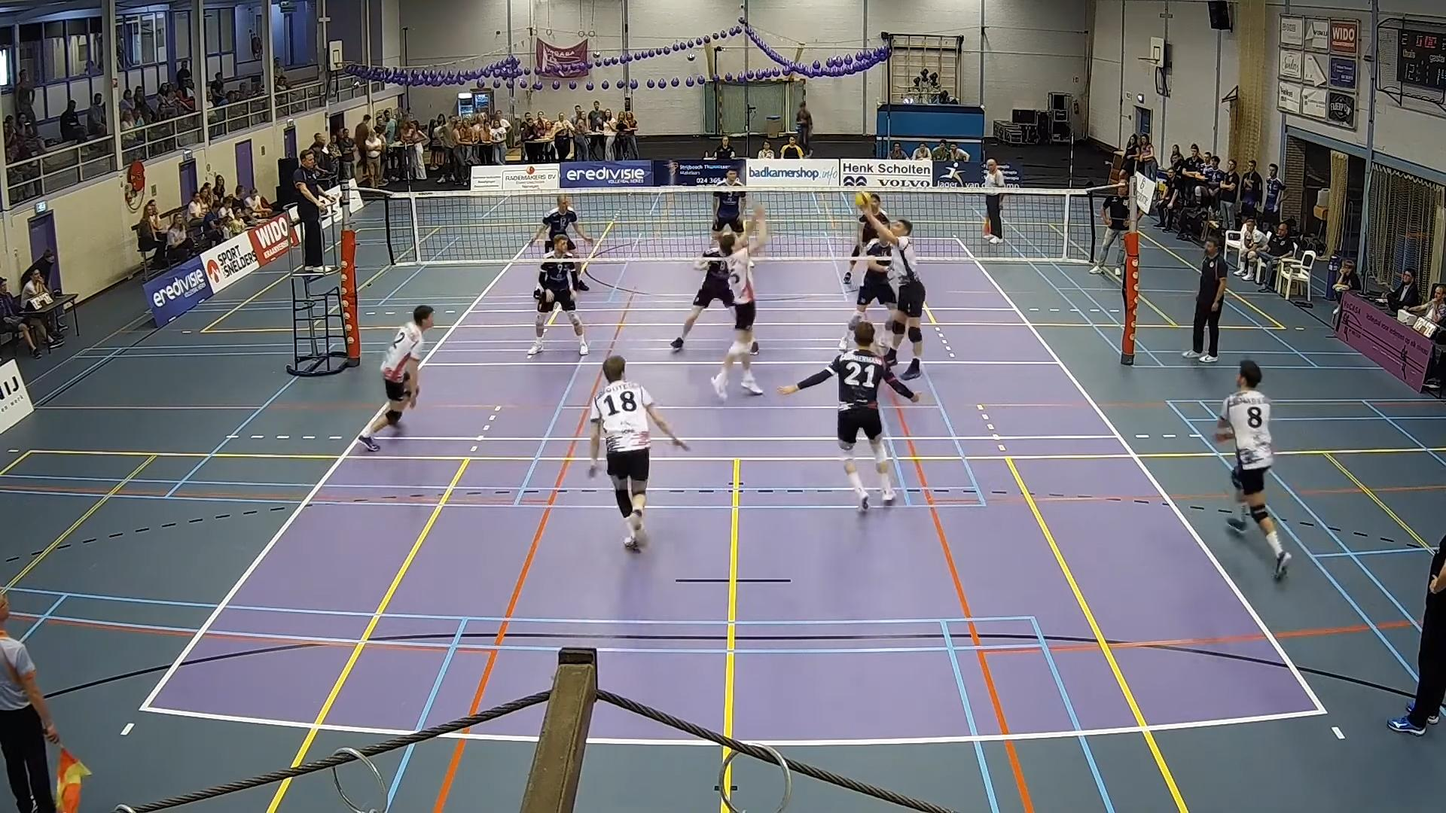Player: (779, 321, 919, 510), (588, 356, 688, 550), (1216, 360, 1291, 579), (358, 306, 433, 451), (712, 205, 767, 398), (528, 235, 588, 356), (670, 246, 734, 351), (839, 238, 896, 351), (532, 195, 592, 251), (843, 214, 877, 285), (712, 169, 746, 239)
Set: (846, 198, 928, 376)
ball: (855, 193, 878, 207)
